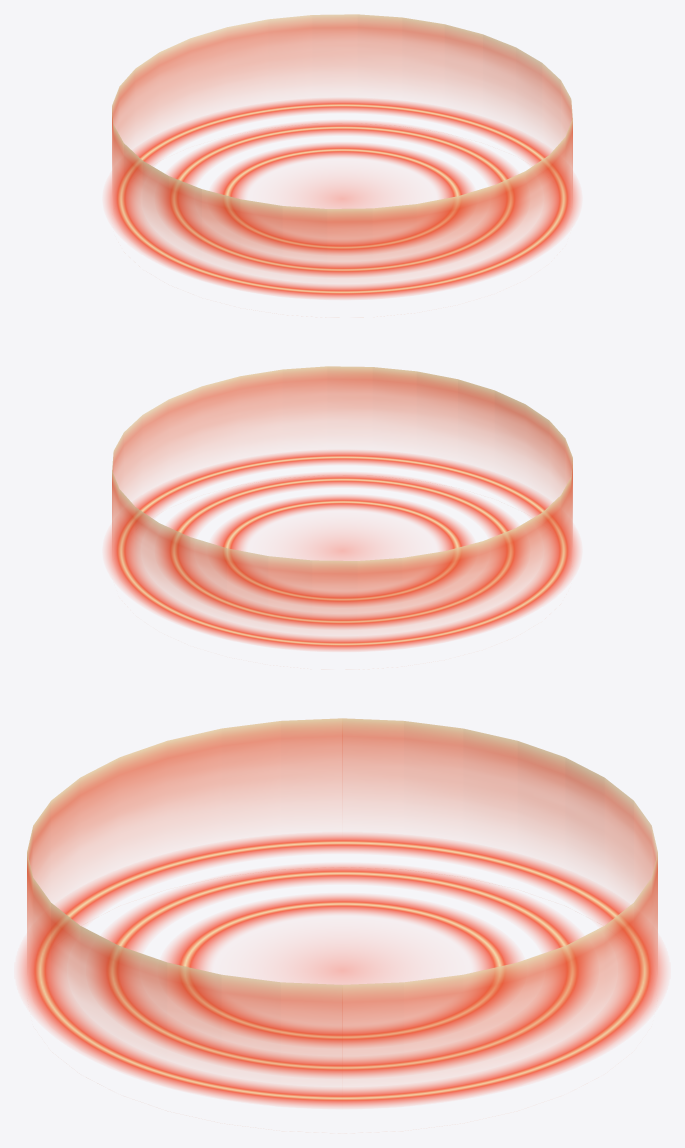
Rendered from fx_slam.glb.
3 views of the same model, one above another, from view 1: azimuth 30°, elevation 25°; view 2: azimuth 150°, elevation 25°; view 3: azimuth 270°, elevation 25° (orthographic). The views are drawn at different scales.
Visible parts, largest first — view 1: fx_slam_wall, fx_slam; view 2: fx_slam_wall, fx_slam; view 3: fx_slam_wall, fx_slam.
Boxes of the visible parts, bbox=[...] form: fx_slam_wall: bbox=[112, 14, 572, 274]; fx_slam: bbox=[106, 99, 578, 298]; fx_slam_wall: bbox=[112, 366, 572, 628]; fx_slam: bbox=[106, 451, 578, 650]; fx_slam_wall: bbox=[27, 718, 657, 1082]; fx_slam: bbox=[19, 834, 665, 1106].
Bounding box in the file's own units: 1 × 0.25 × 1.
2 materials, 2 textured.
